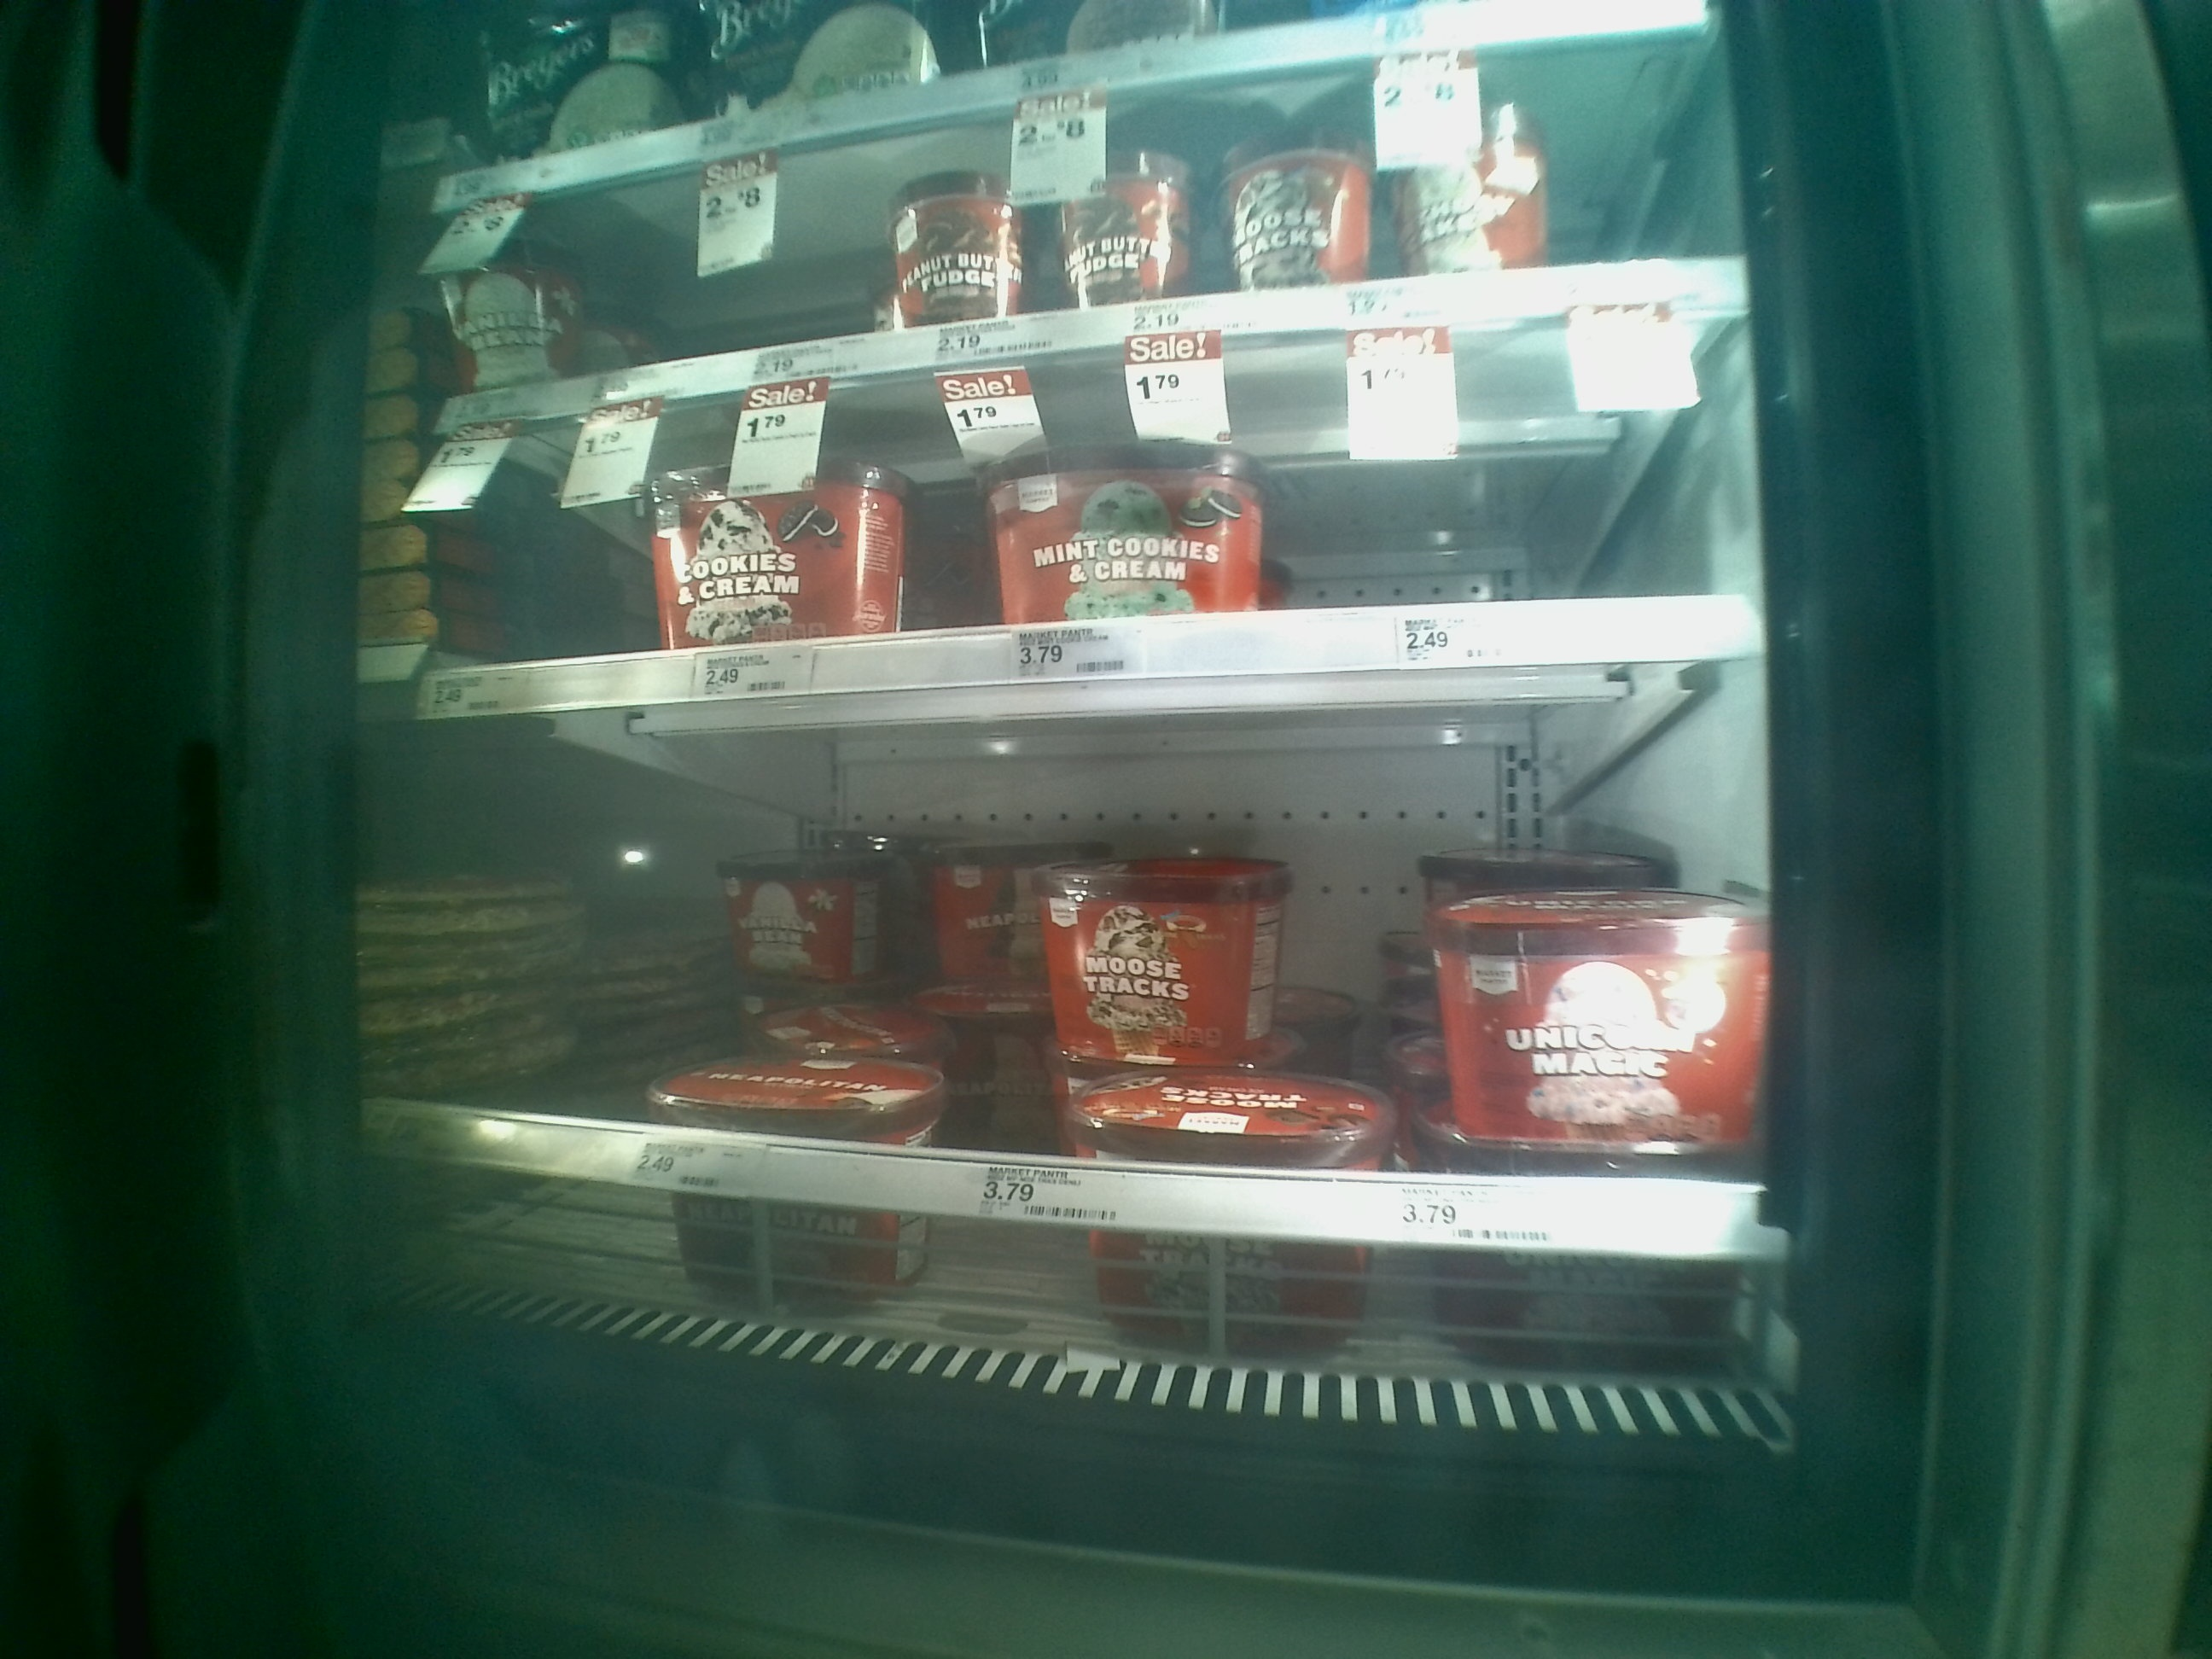shelf: (441, 690, 1789, 1269), (432, 310, 1757, 732)
